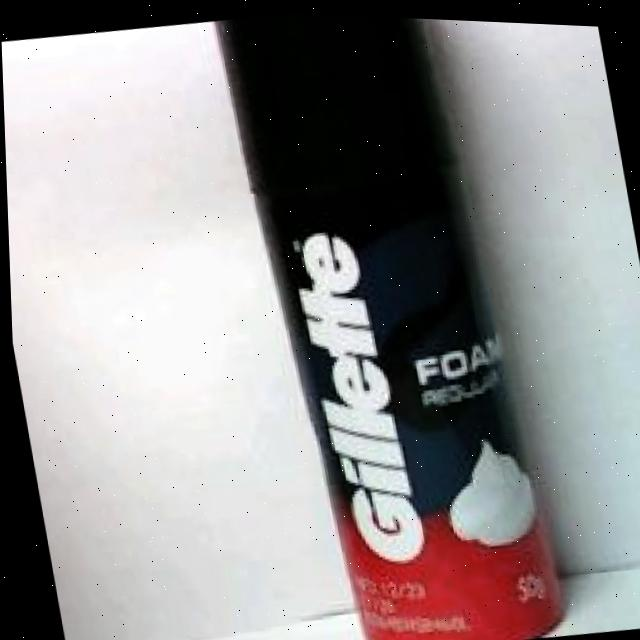gillette-foam: (209, 10, 564, 640)
